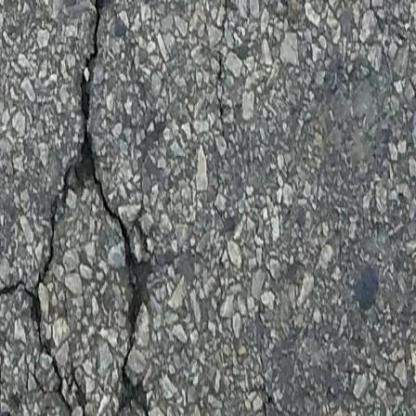Cracks: (77, 181, 197, 416), (47, 0, 139, 272), (1, 229, 81, 416)
